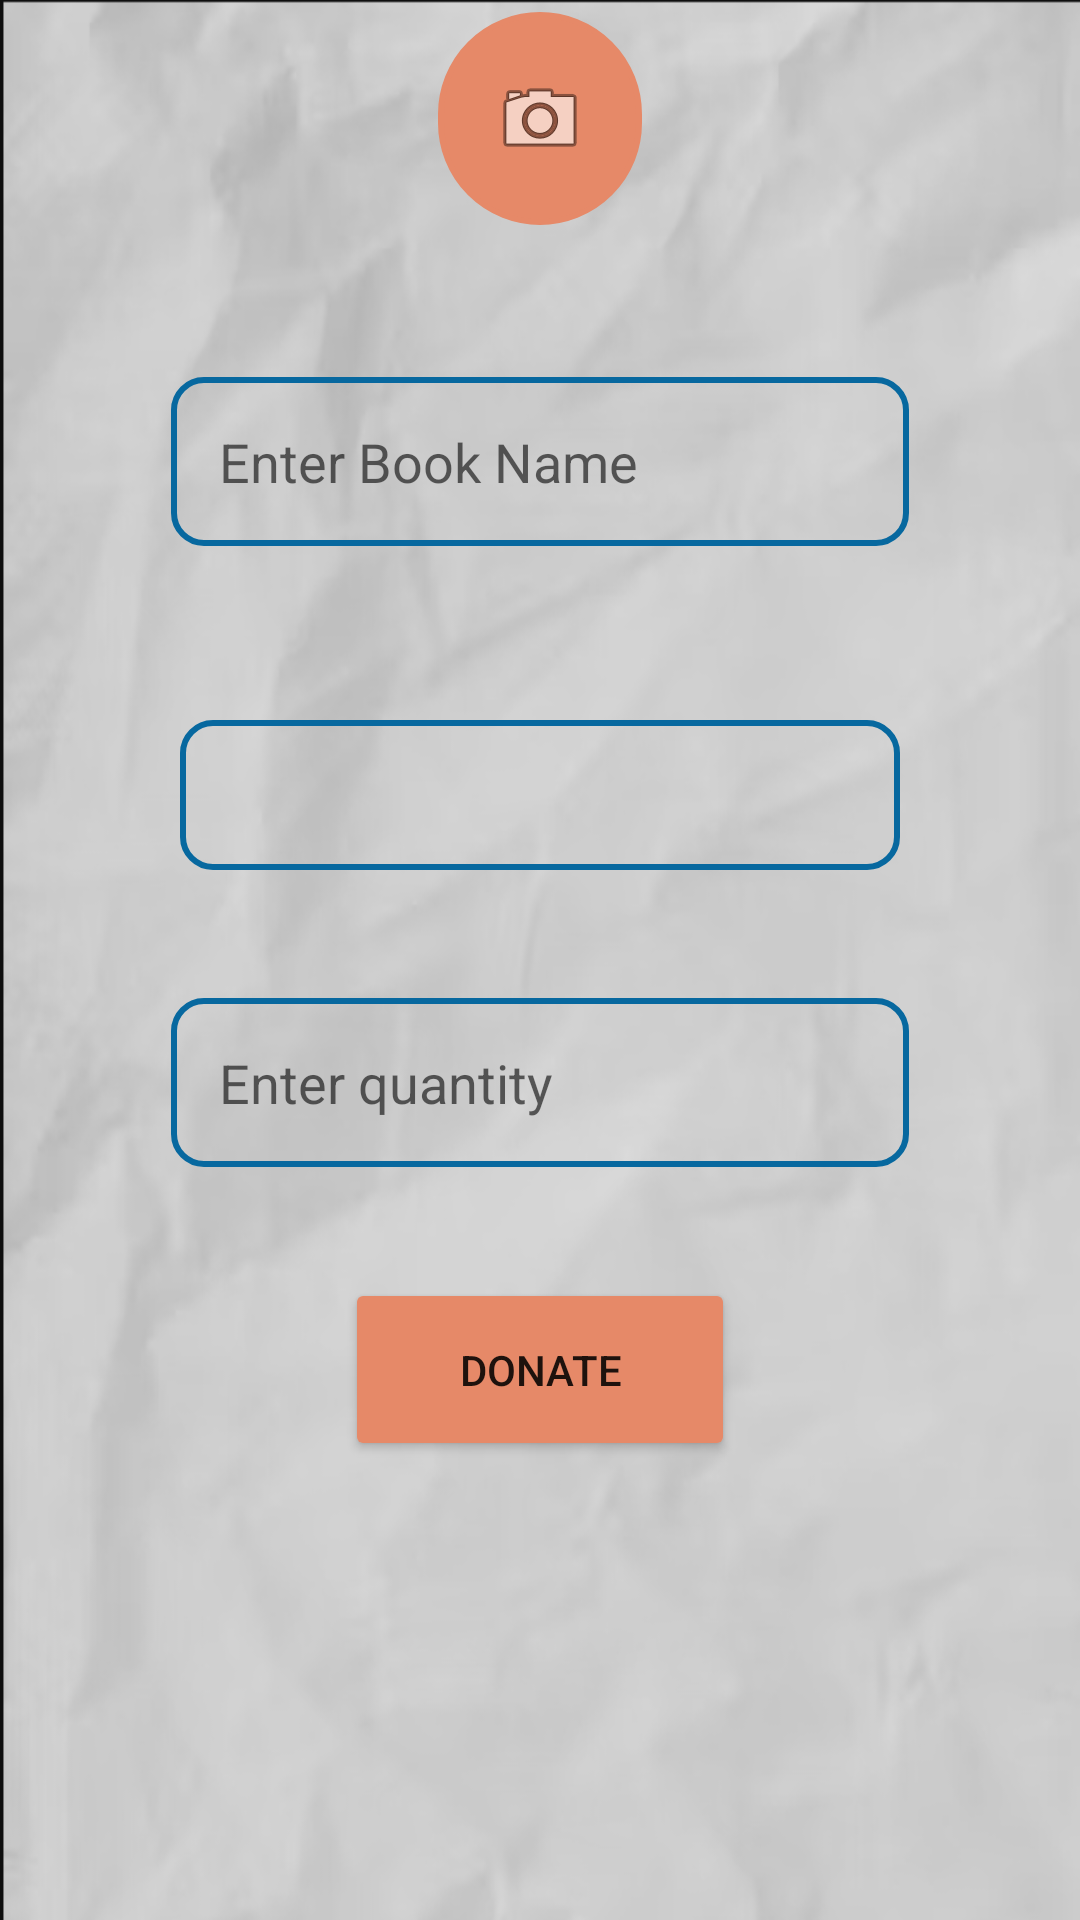

Icon bounding boxes for this 1080 × 1920 phone screenshot, format (x1, y1, x2, y2):
camera: (438, 12, 642, 225)
